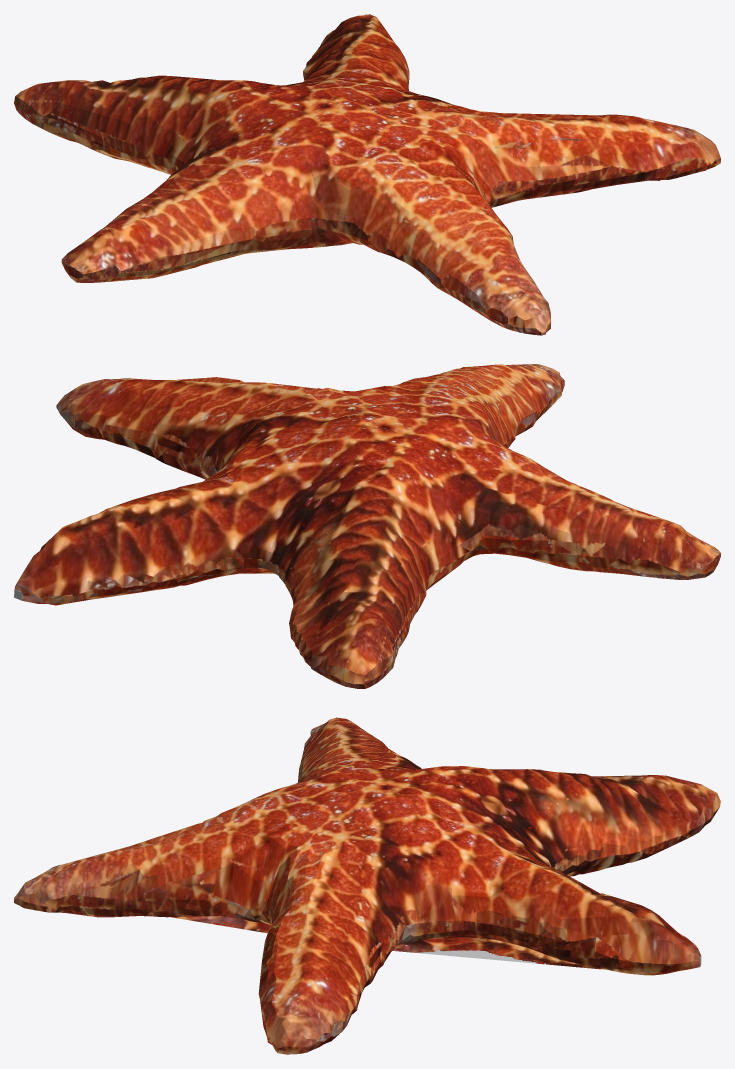
Rendered from starfish.fbx.
The picture shows the model from 3 angles, top to bottom: view 1: azimuth 30°, elevation 25°; view 2: azimuth 150°, elevation 25°; view 3: azimuth 270°, elevation 25°; orthographic projection. The views are drawn at different scales.
Visible parts, largest first — view 1: starfish 3; view 2: starfish 3; view 3: starfish 3.
Boxes of the visible parts, x1,y1,x2,y2 form: starfish 3: (14, 14, 720, 335); starfish 3: (14, 364, 720, 688); starfish 3: (14, 717, 720, 1054).
Bounding box in the file's own units: 211 × 36.07 × 207.
1 material, 1 textured.
